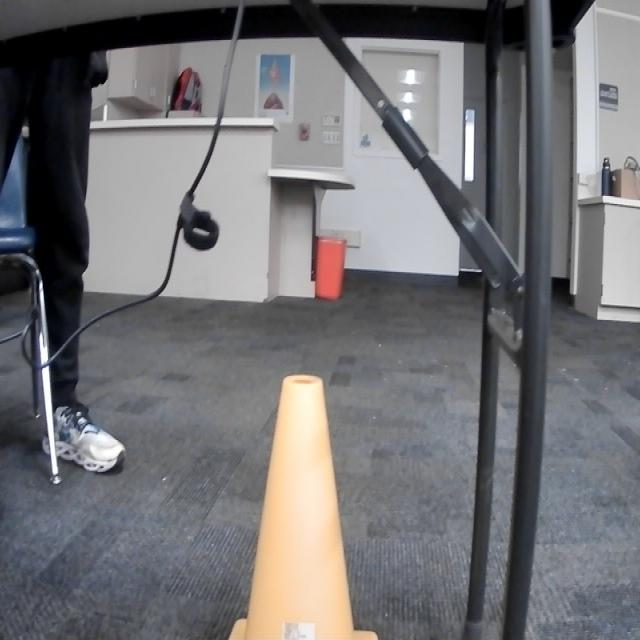cone: (224, 366, 384, 640)
